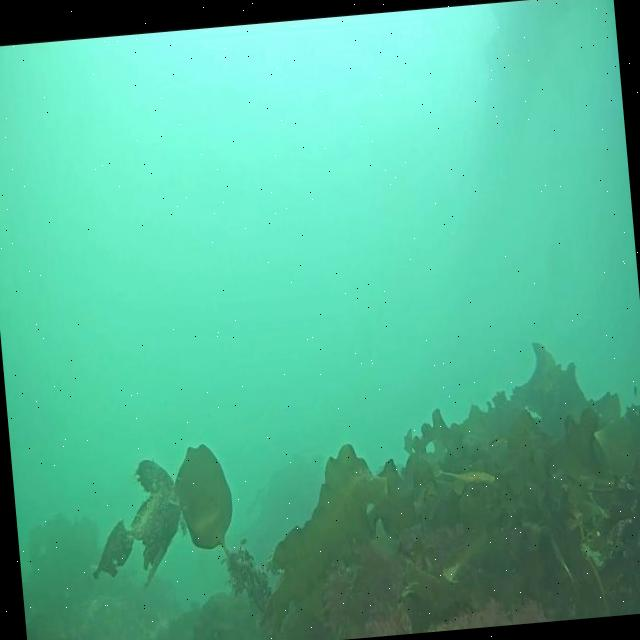fish: (432, 470, 493, 486), (488, 432, 508, 449)
